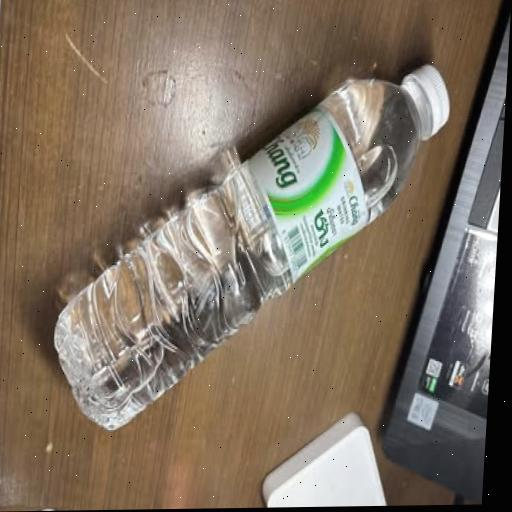ba: (27, 27, 477, 448)
